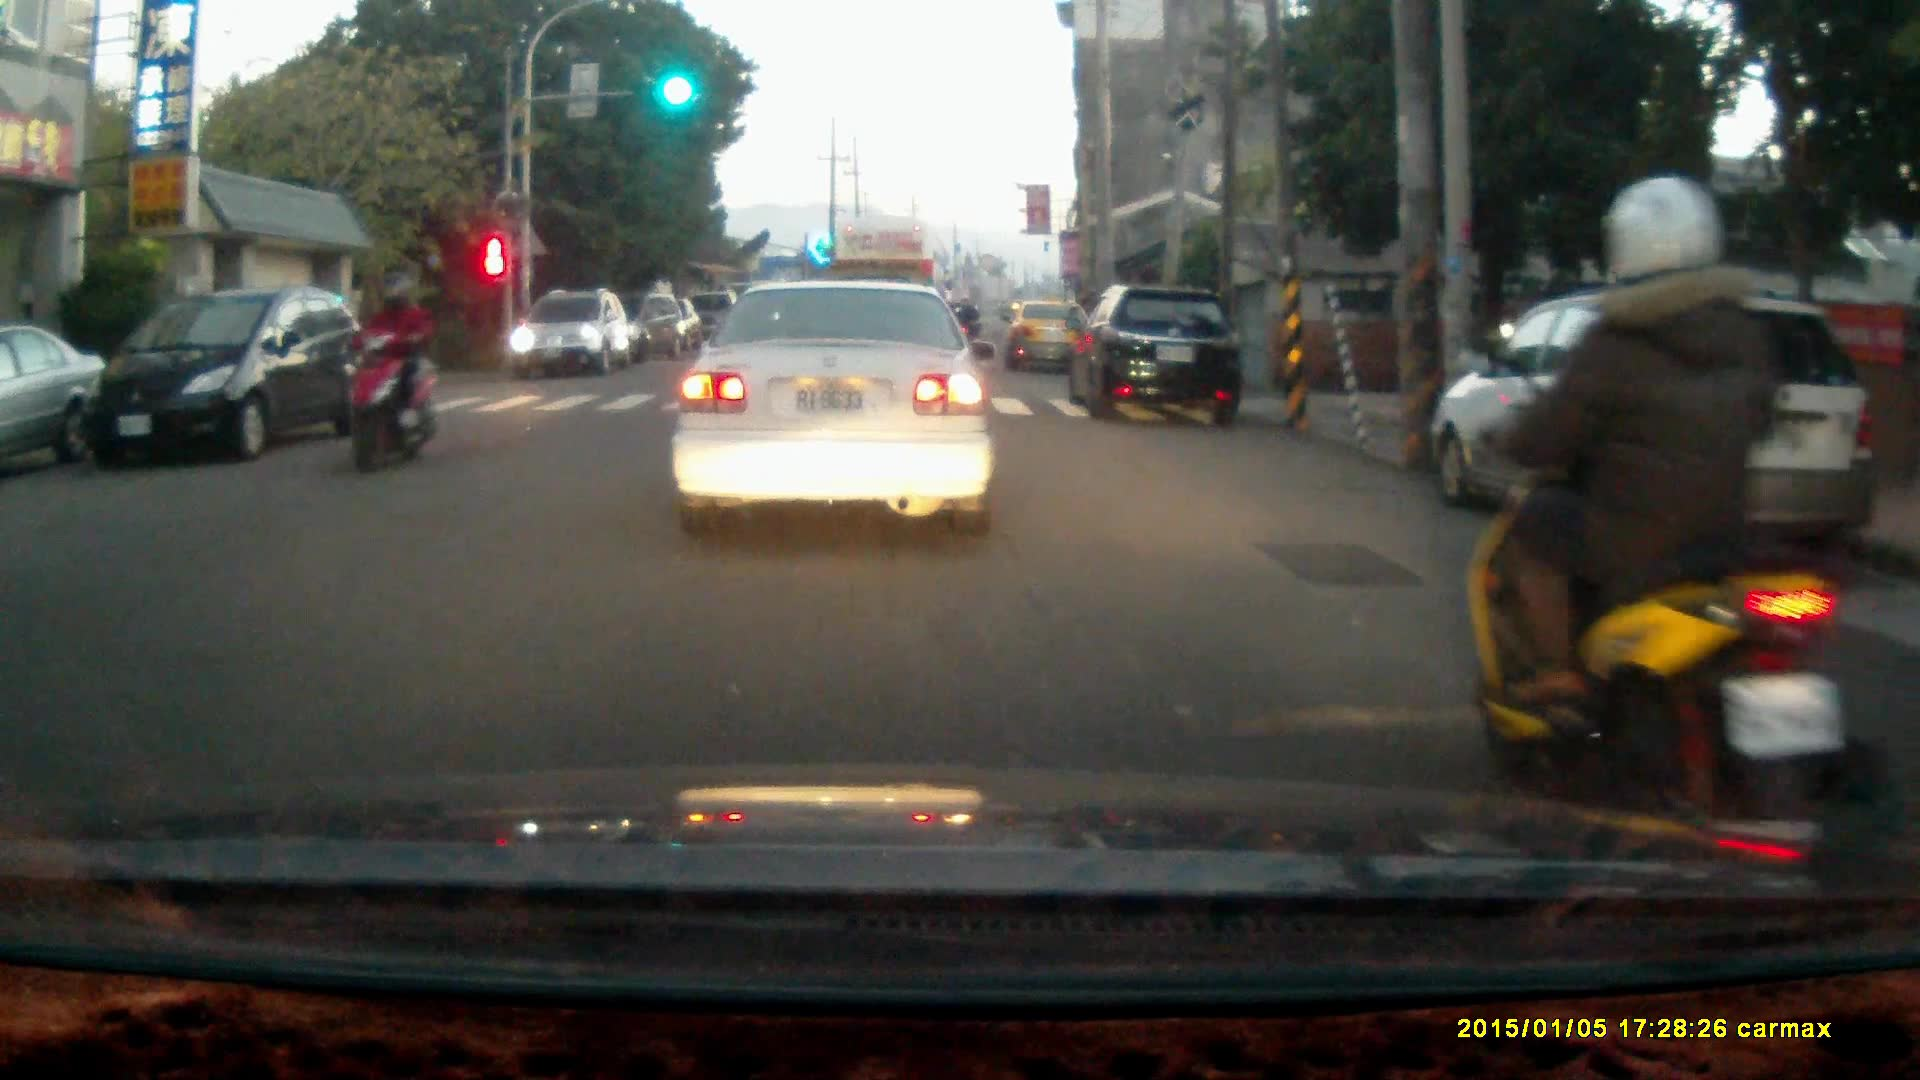rider: (1461, 175, 1890, 882), (339, 268, 431, 473)
vehicle: (1431, 290, 1887, 562), (675, 274, 997, 535), (76, 283, 381, 466), (1078, 284, 1240, 423), (828, 210, 944, 364), (0, 320, 105, 475), (510, 292, 635, 381), (1004, 297, 1101, 377)
